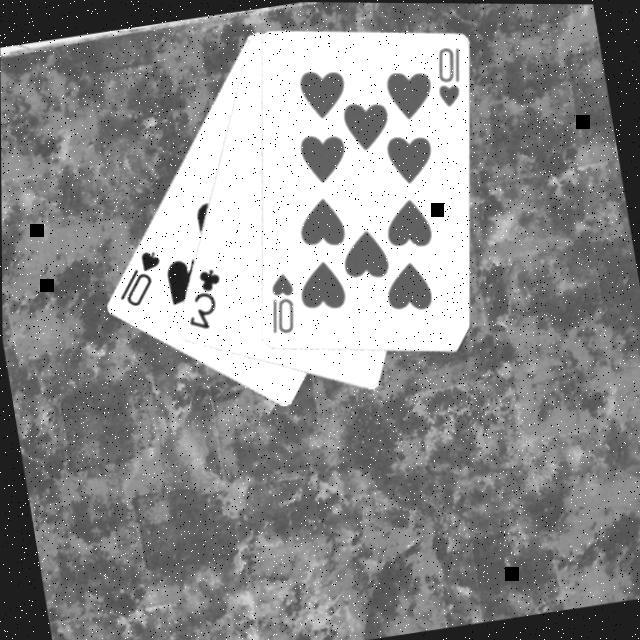10H: (259, 266, 303, 337), (428, 39, 472, 110)
10S: (108, 243, 170, 311)
3C: (177, 262, 231, 333)
